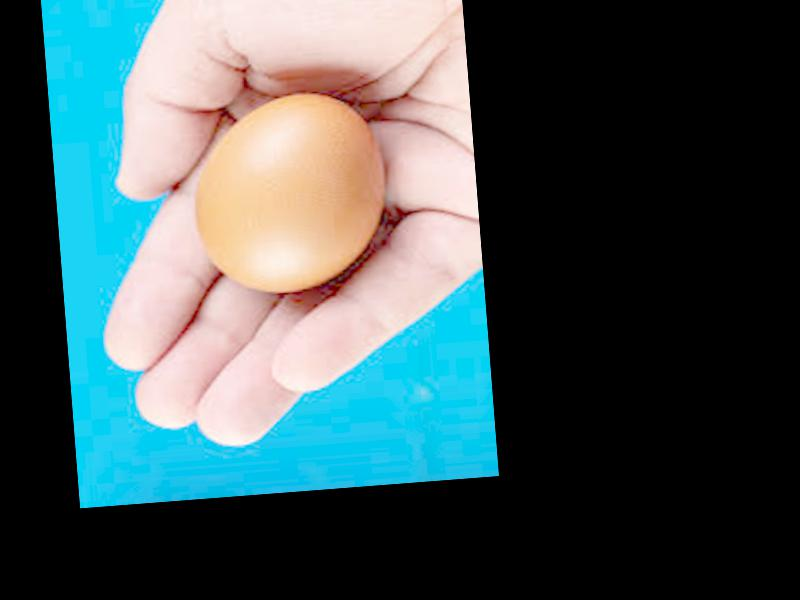Eggs: (187, 89, 387, 301)
